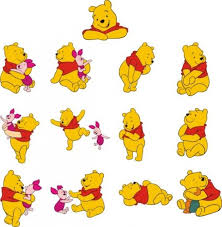Winnie: (85, 1, 125, 40), (178, 168, 220, 204), (178, 40, 208, 81), (176, 107, 212, 140), (52, 42, 90, 73), (117, 106, 148, 142), (75, 167, 106, 201), (2, 41, 32, 76), (118, 177, 150, 209), (130, 41, 158, 71), (4, 168, 28, 203), (55, 107, 86, 133), (12, 114, 39, 142)
